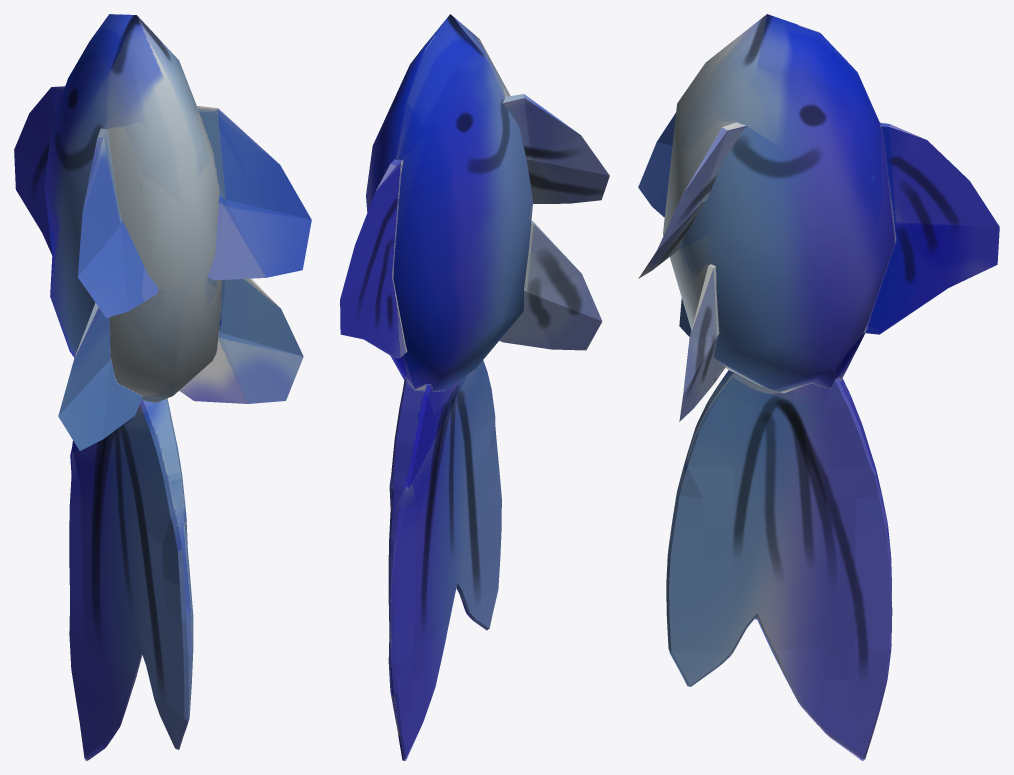
Rendered from fish.fbx.
3 views of the same model, side by side, from view 1: azimuth 30°, elevation 25°; view 2: azimuth 150°, elevation 25°; view 3: azimuth 270°, elevation 25° (orthographic). The views are drawn at different scales.
Parts seen in each view (by area): view 1: DemoFish; view 2: DemoFish; view 3: DemoFish.
Part boxes in pixels (left/top/right/bottom): DemoFish: left=14, top=14, right=311, bottom=760; DemoFish: left=340, top=14, right=609, bottom=760; DemoFish: left=638, top=14, right=999, bottom=760.
Bounding box in the file's own units: 87.12 × 265 × 116.
Materials: 1 (1 with a texture image).
